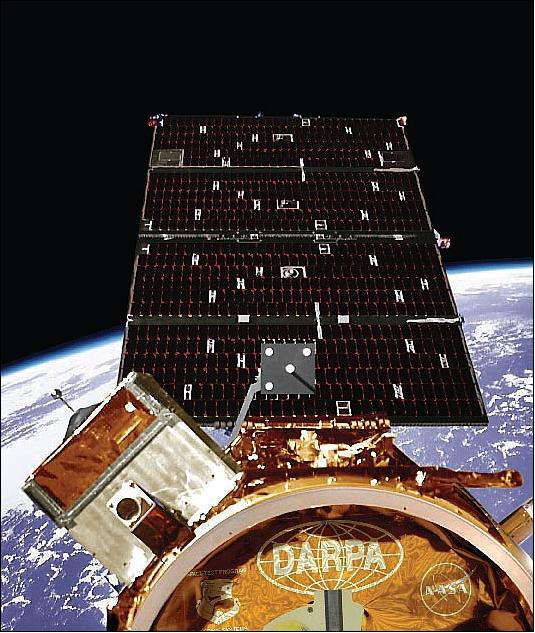antenna: (47, 382, 106, 442)
body: (23, 368, 535, 633)
solar: (116, 110, 489, 428)
